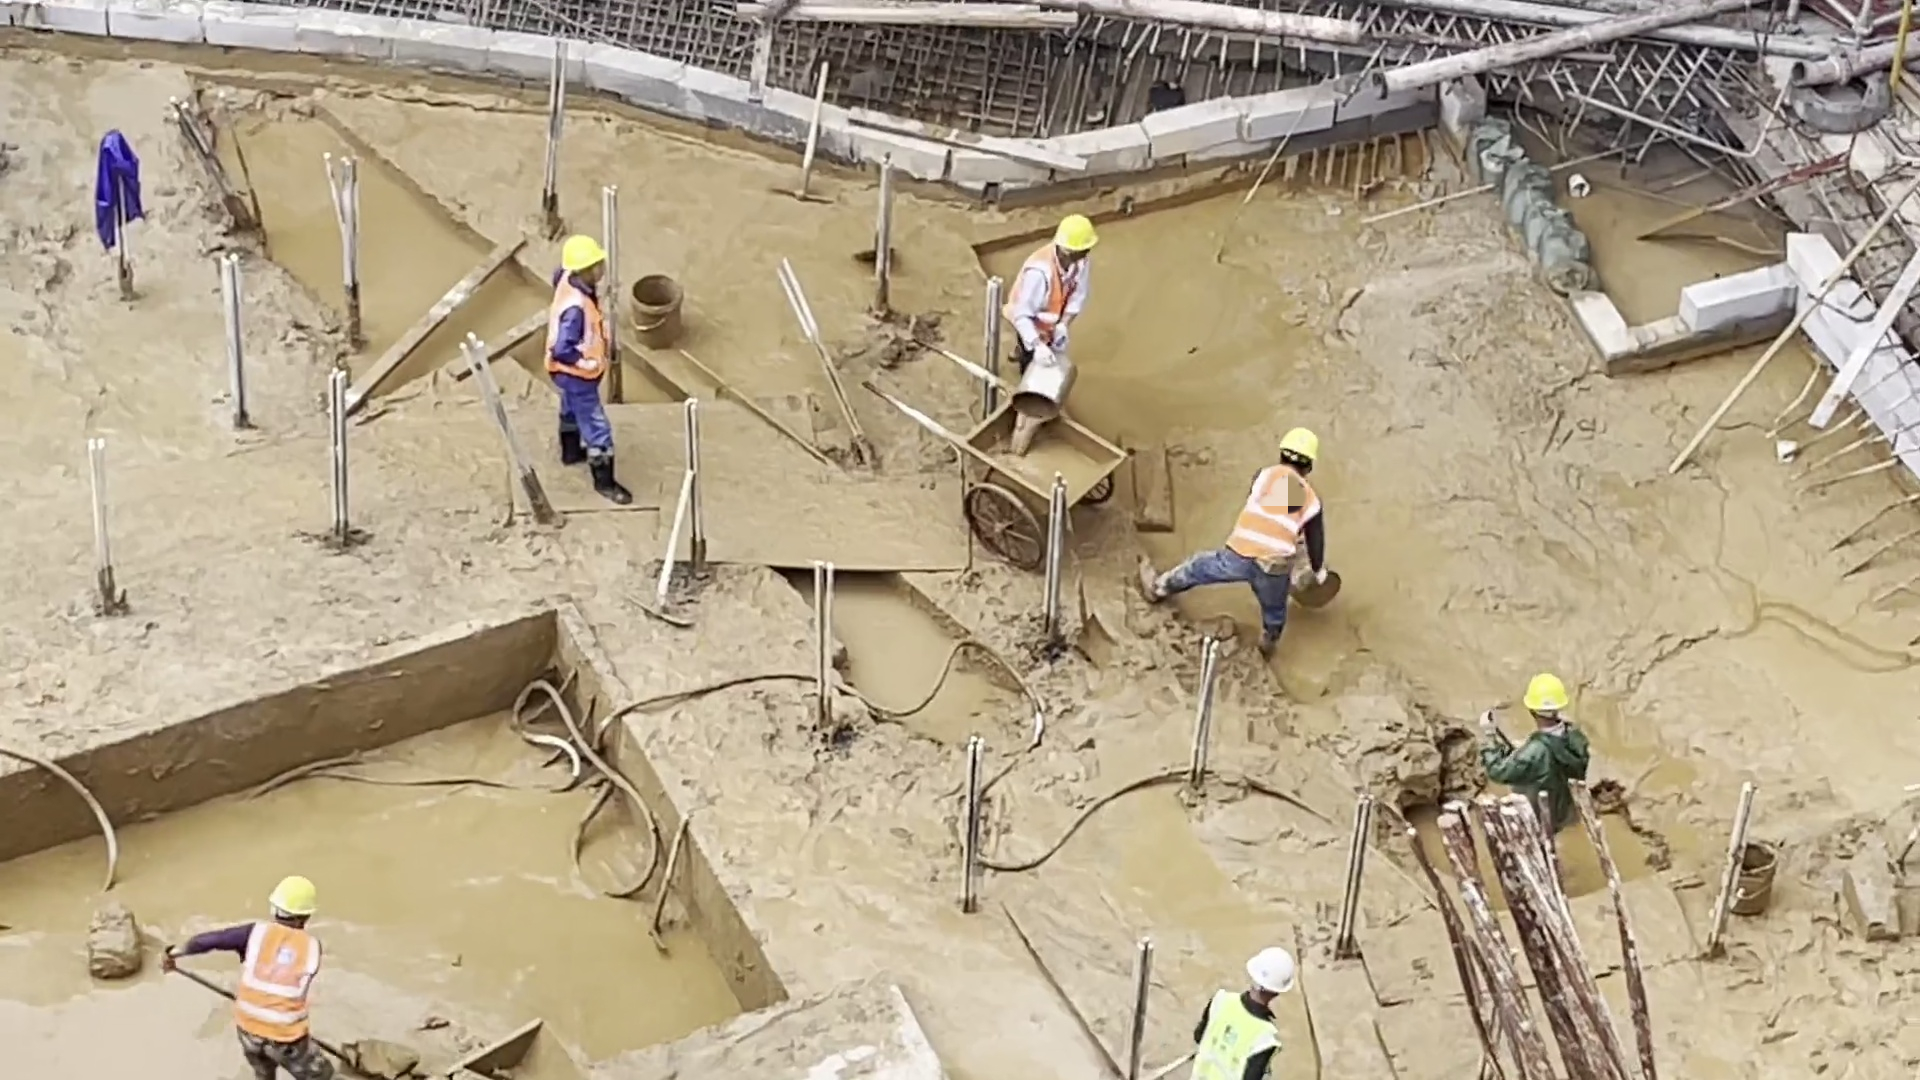helmet: (1248, 944, 1298, 997), (266, 874, 320, 916), (1052, 214, 1100, 255), (1523, 672, 1569, 711), (561, 236, 607, 273), (1277, 427, 1327, 459)
person: (1131, 426, 1328, 681), (175, 877, 334, 1080), (540, 236, 628, 506), (1477, 665, 1595, 817), (1192, 943, 1300, 1080), (997, 208, 1093, 357)
vest: (1228, 457, 1328, 565), (241, 923, 317, 1042), (1192, 985, 1278, 1080), (1004, 244, 1087, 333), (549, 276, 615, 381)
